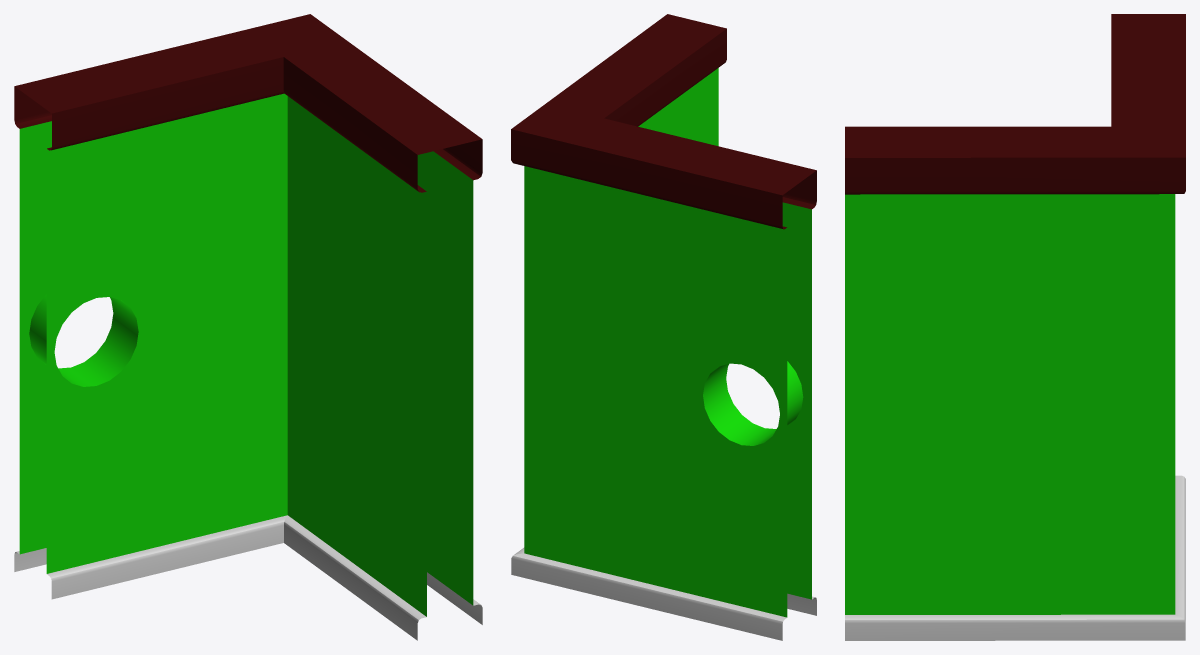
The model's file is SM_CoinVentilation.fbx.
3 views of the same model, side by side, from view 1: azimuth 30°, elevation 25°; view 2: azimuth 150°, elevation 25°; view 3: azimuth 270°, elevation 25° (orthographic). The views are drawn at different scales.
Visible parts, largest first — view 1: polySurface81; view 2: polySurface81; view 3: polySurface81.
Part boxes in pixels (x1,y1,x2,y2): polySurface81: (14,14,482,640); polySurface81: (511,14,816,640); polySurface81: (845,14,1185,640).
Size of the model in its own units: 128 by 200 by 128.
